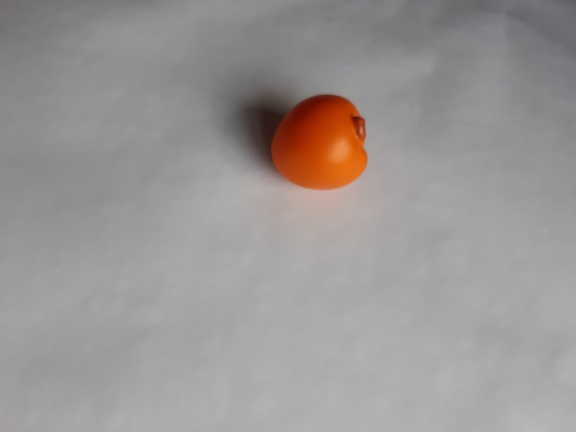apricot: (260, 88, 377, 195)
